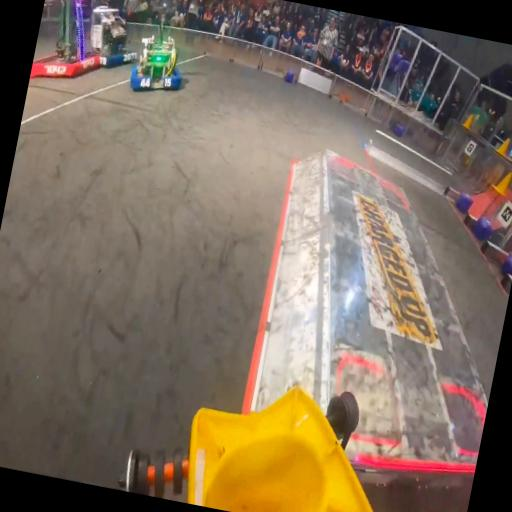robot: (29, 0, 113, 91), (125, 13, 194, 100), (83, 2, 146, 72)
